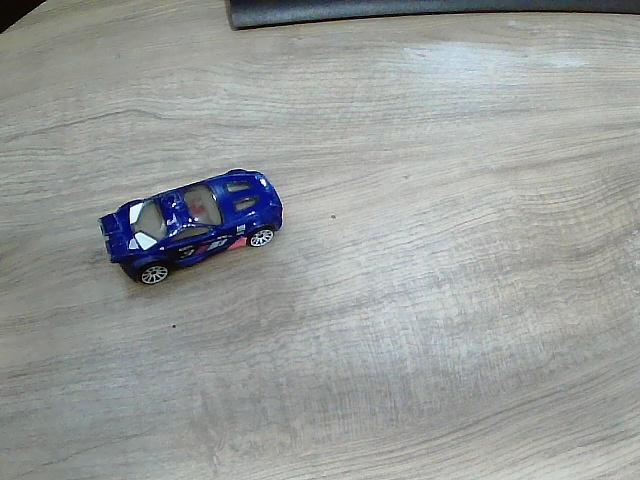Carro: (101, 170, 283, 286)
